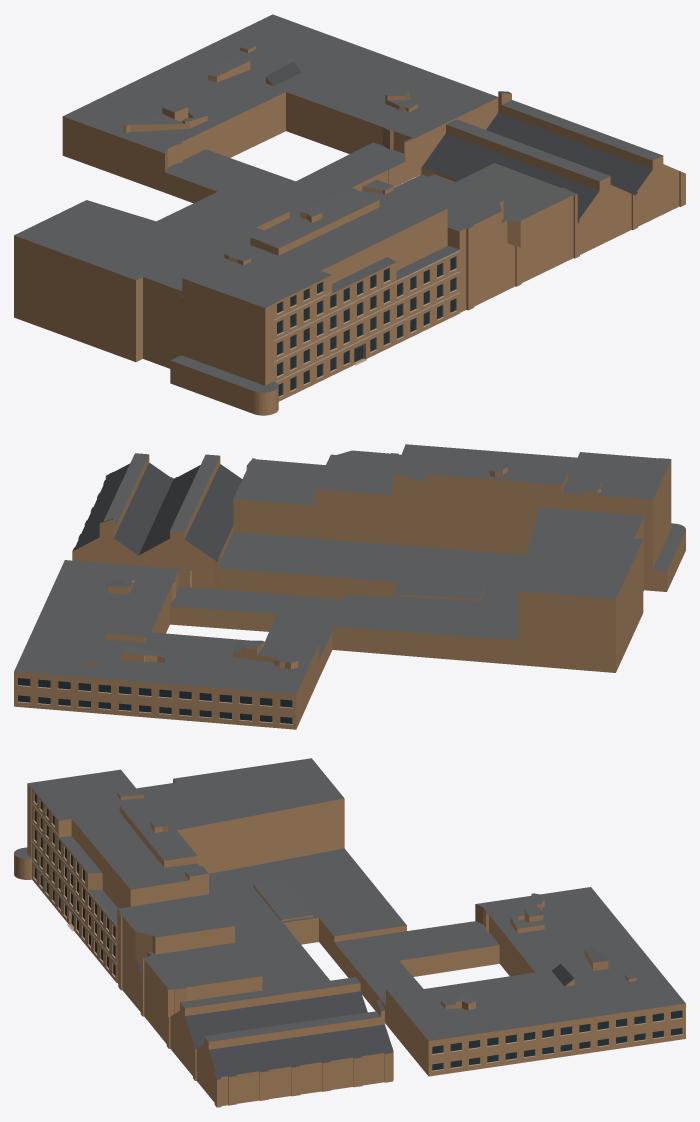
Rendered from recipe-large-stadsloket-oost.glb.
3 renders of one model, top to bottom at view 1: azimuth 30°, elevation 25°; view 2: azimuth 150°, elevation 25°; view 3: azimuth 270°, elevation 25°, orthographic. The views are drawn at different scales.
Visible parts, largest first — view 1: stadsloket-oost; view 2: stadsloket-oost; view 3: stadsloket-oost.
Boxes of the visible parts, x1,y1,x2,y2 form: stadsloket-oost: [14, 14, 685, 415]; stadsloket-oost: [14, 444, 685, 729]; stadsloket-oost: [14, 758, 685, 1107].
Size of the model in its own units: 123 by 21.6 by 127.
